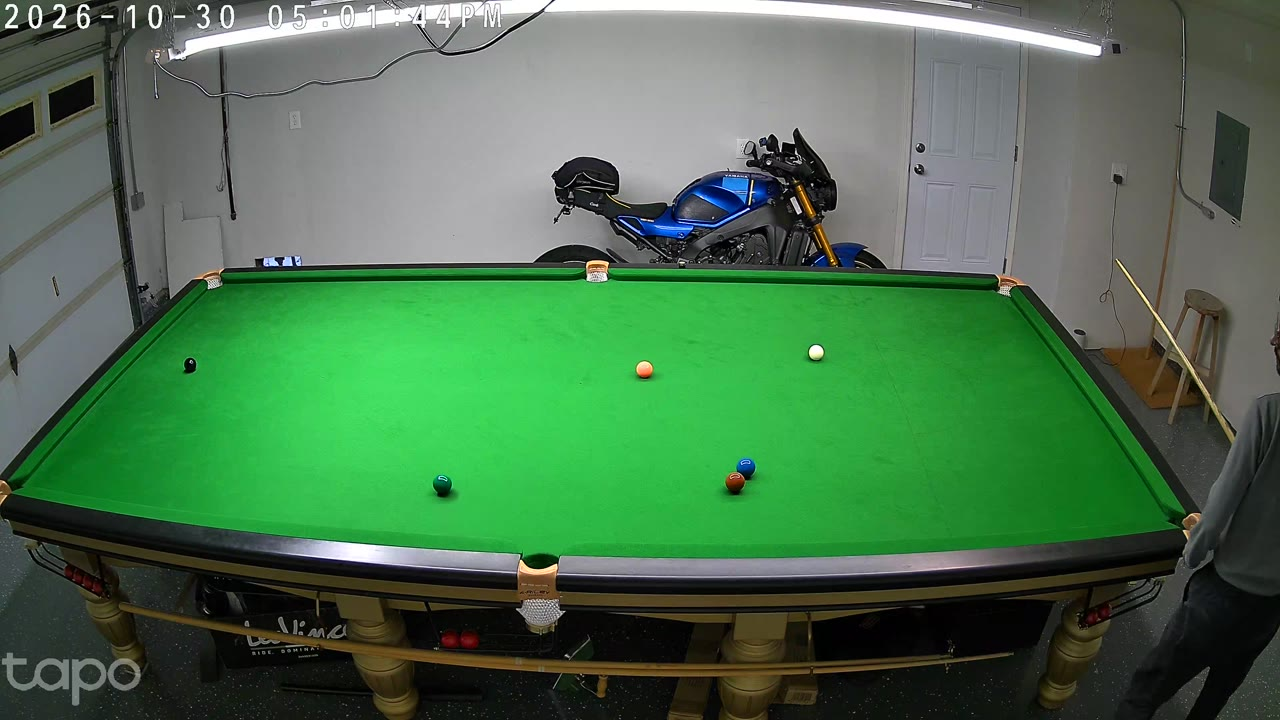black: (184, 356, 196, 375)
blue: (737, 456, 755, 482)
brown: (726, 472, 742, 495)
green: (433, 472, 453, 500)
pink: (636, 360, 653, 381)
white: (808, 343, 824, 363)
